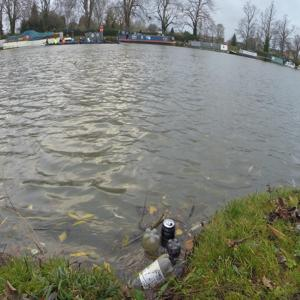metal: (161, 214, 176, 248)
plastic: (129, 250, 173, 292), (140, 225, 163, 254), (167, 237, 184, 260)
